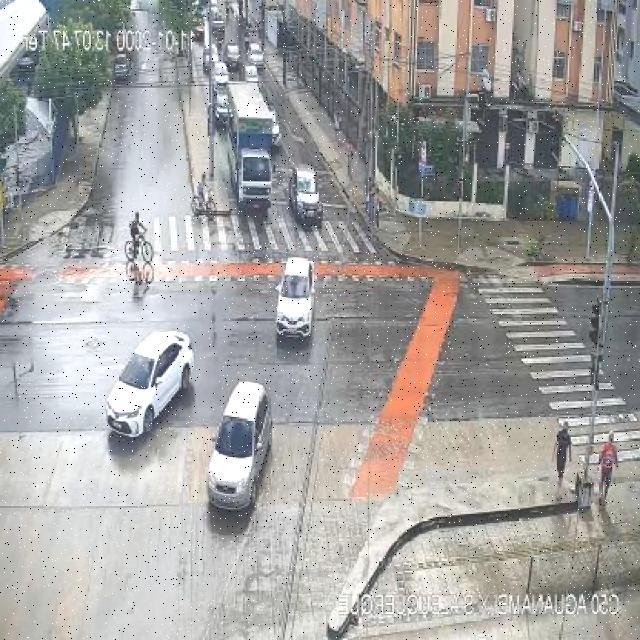Car: (104, 329, 194, 437), (205, 380, 272, 510), (274, 256, 315, 341), (288, 167, 322, 225), (214, 89, 233, 124), (112, 54, 132, 82), (211, 59, 230, 88), (246, 42, 265, 70), (203, 46, 219, 73), (224, 44, 240, 70), (209, 4, 221, 22)
Cycle: (120, 229, 154, 261), (189, 196, 219, 218)
Truck: (222, 80, 278, 210)
